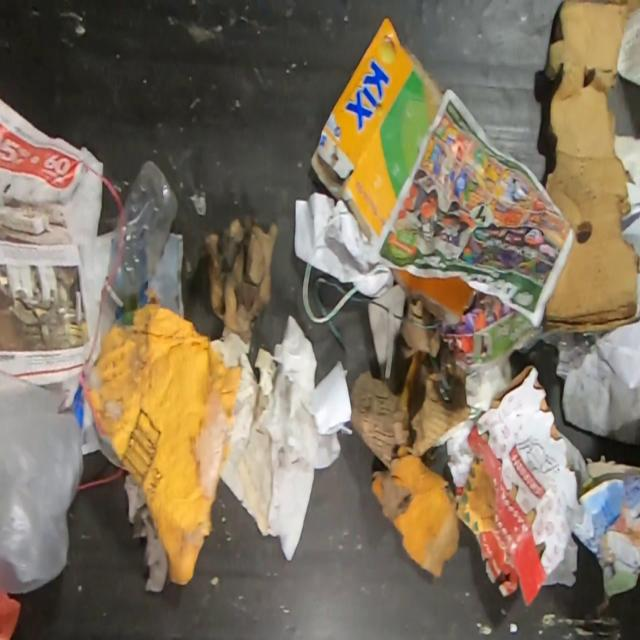cardboard: (84, 301, 244, 586), (446, 364, 584, 608), (540, 0, 639, 335), (308, 16, 446, 249), (350, 268, 472, 471), (370, 454, 500, 578), (198, 213, 281, 342)
rigid_plastic: (100, 158, 180, 314)
soft_plastic: (0, 373, 88, 596)
